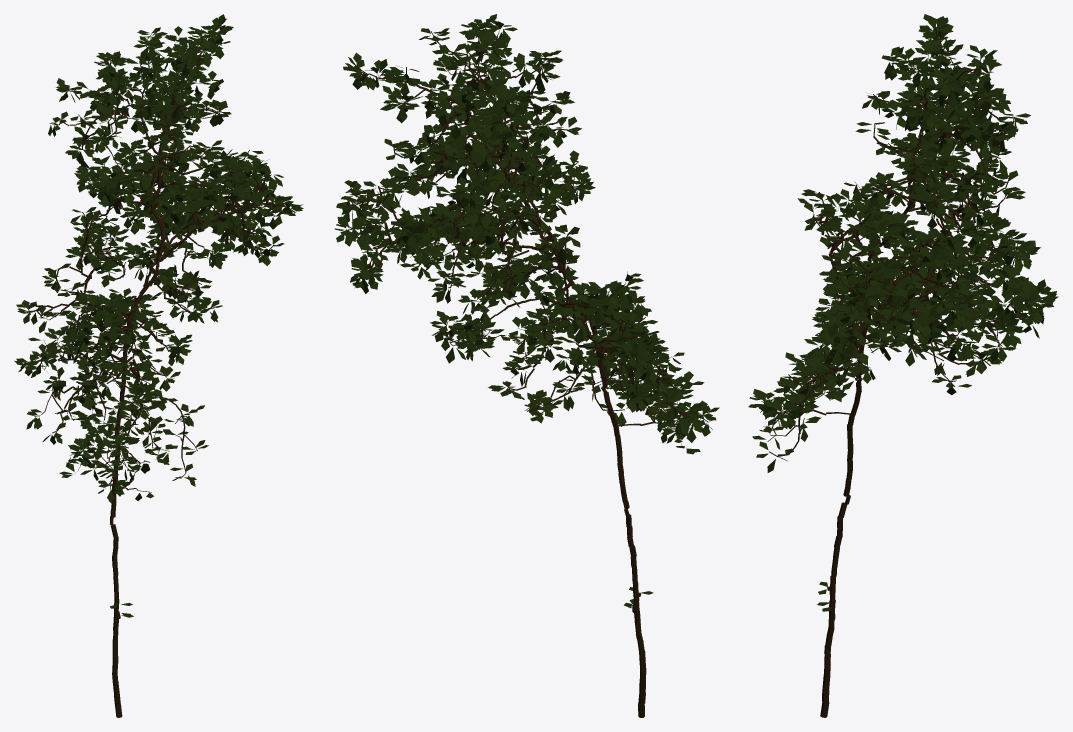
File: tree_326.obj
3 renders of one model, left to right at view 1: azimuth 30°, elevation 25°; view 2: azimuth 150°, elevation 25°; view 3: azimuth 270°, elevation 25°, orthographic. The views are drawn at different scales.
Parts seen in each view (by area): view 1: Leaves, TrunkAndBranches; view 2: Leaves, TrunkAndBranches; view 3: Leaves, TrunkAndBranches.
Boxes of the visible parts, x1=… form: Leaves: x1=14, y1=14, x2=303, y2=617; TrunkAndBranches: x1=27, y1=25, x2=289, y2=717; Leaves: x1=334, y1=14, x2=719, y2=608; TrunkAndBranches: x1=348, y1=27, x2=711, y2=717; Leaves: x1=748, y1=14, x2=1058, y2=611; TrunkAndBranches: x1=761, y1=26, x2=1042, y2=717.
Bounding box in the file's own units: 6.49 × 13.74 × 5.32.
